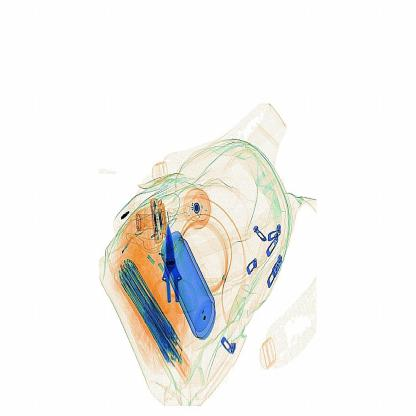gun: (148, 217, 200, 319)
